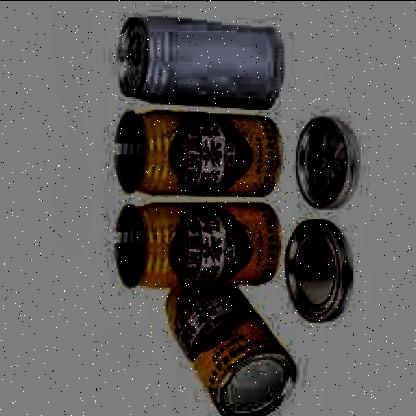Can: (157, 276, 299, 416), (112, 10, 290, 112), (110, 101, 284, 202), (106, 194, 284, 290)
